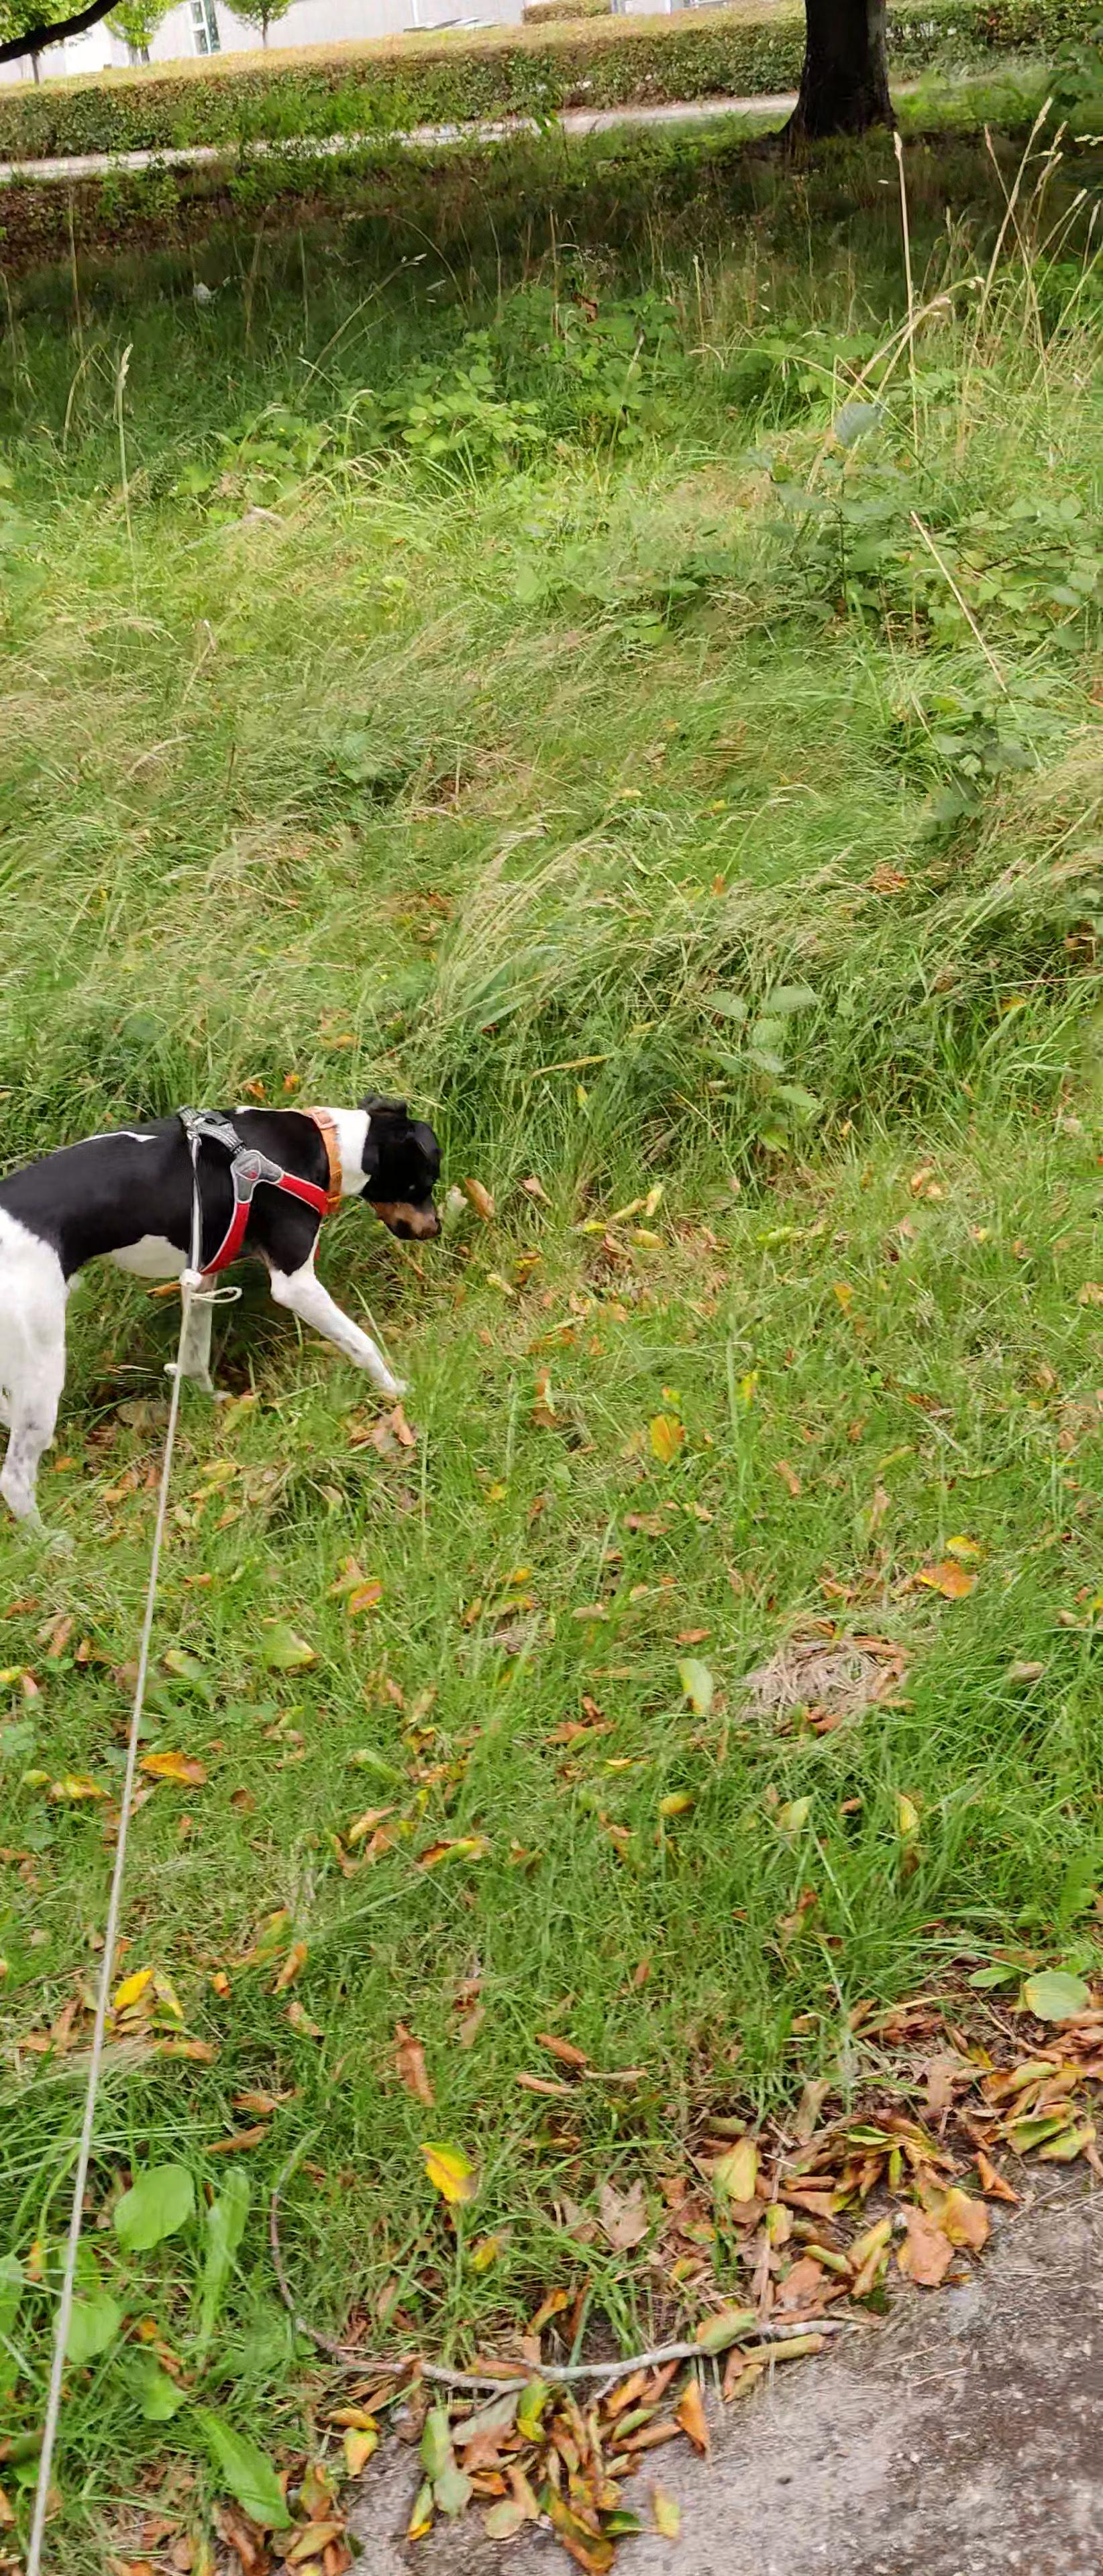Dog: (0, 1088, 515, 1543)
